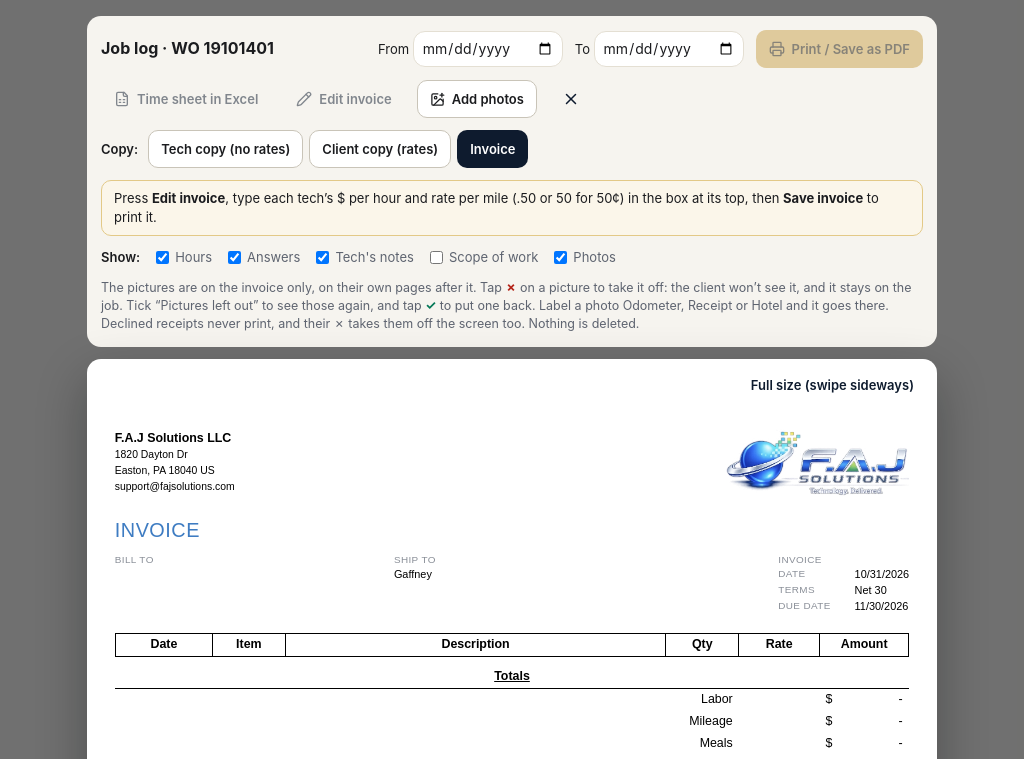
Job log edited by the office › shows a day as the office retimed it on the Hours screen, in place of its clock-ins (Fred: "edit the time sheet and it shows on the job logs")
The image size is (1024, 759).
Click the button "Tech copy (no rates)".
click(226, 149)  # box [148,130,303,168]
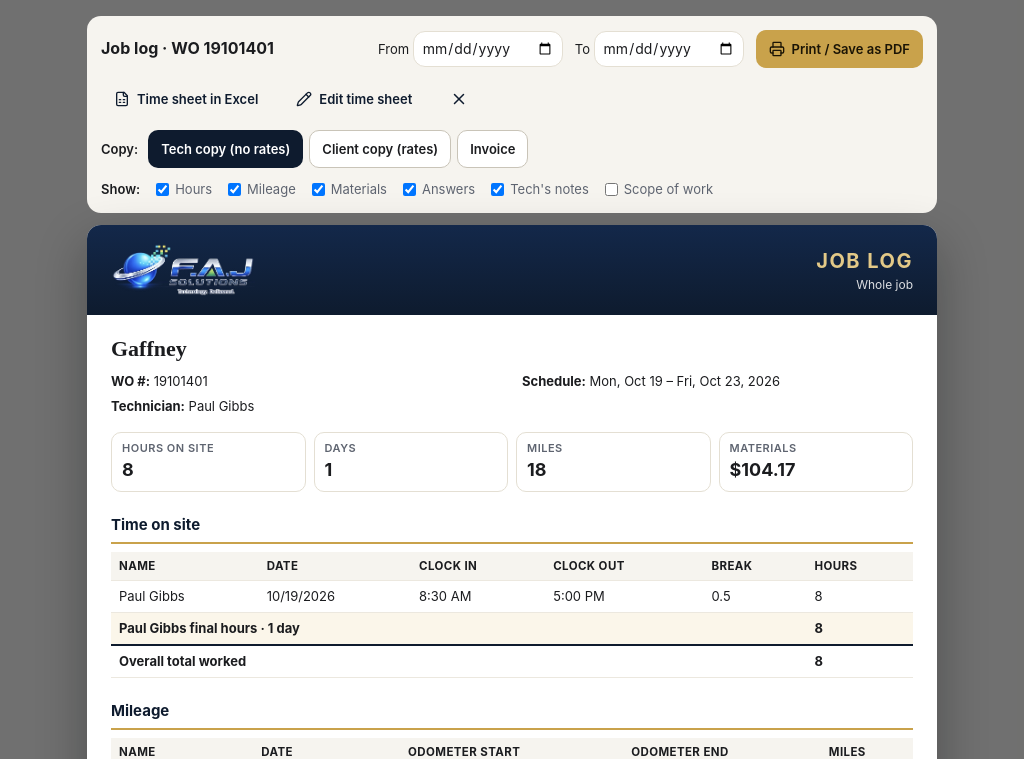
Expected: the text "8" is shown, [122,459,134,480]
